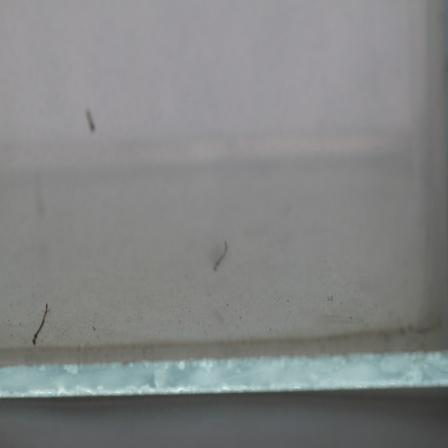Jentik-Nyamuk: (27, 302, 54, 348), (208, 237, 232, 274), (80, 108, 101, 133)
